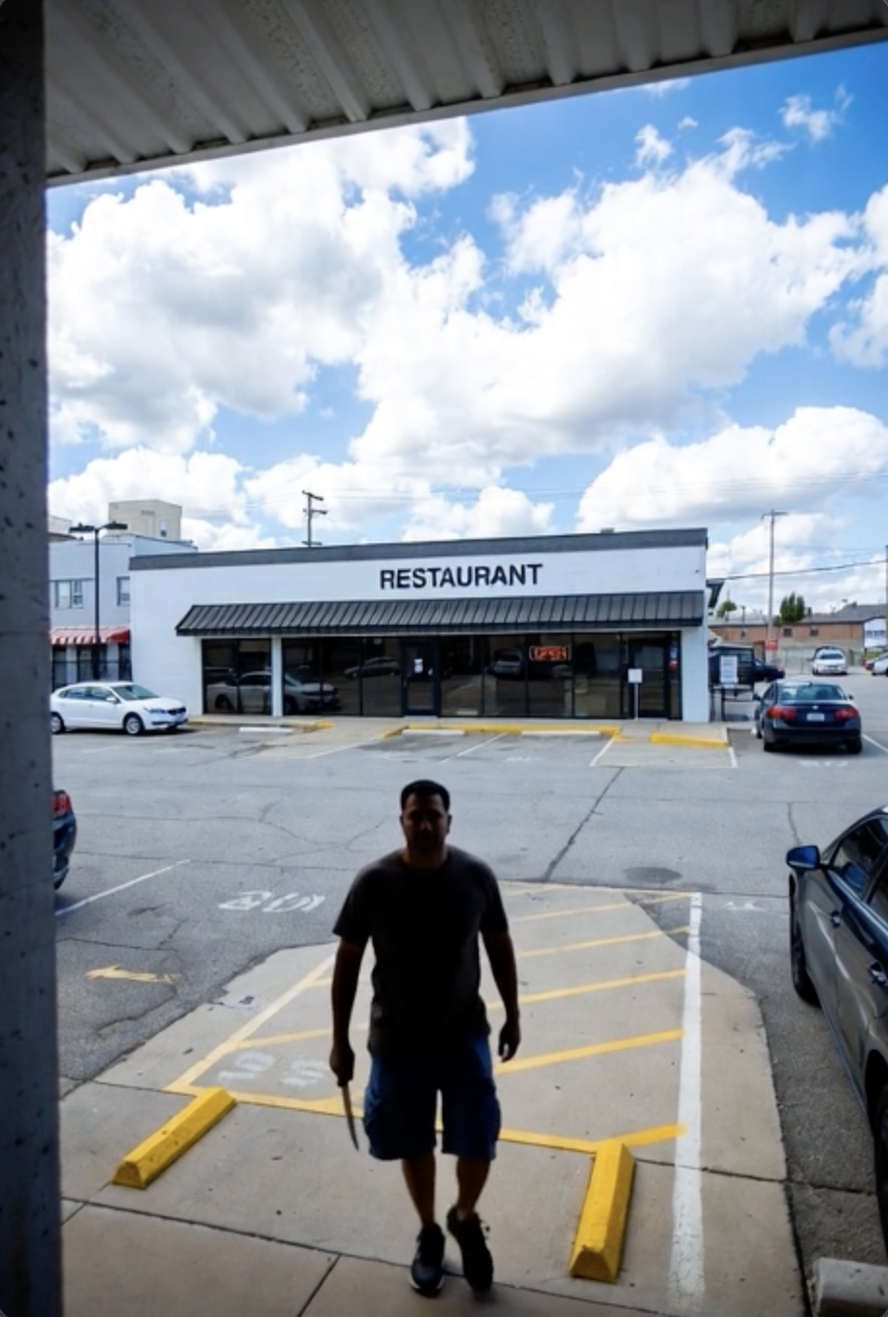Heavy Gun: (323, 774, 527, 1317)
Knife: (327, 1041, 368, 1165)
